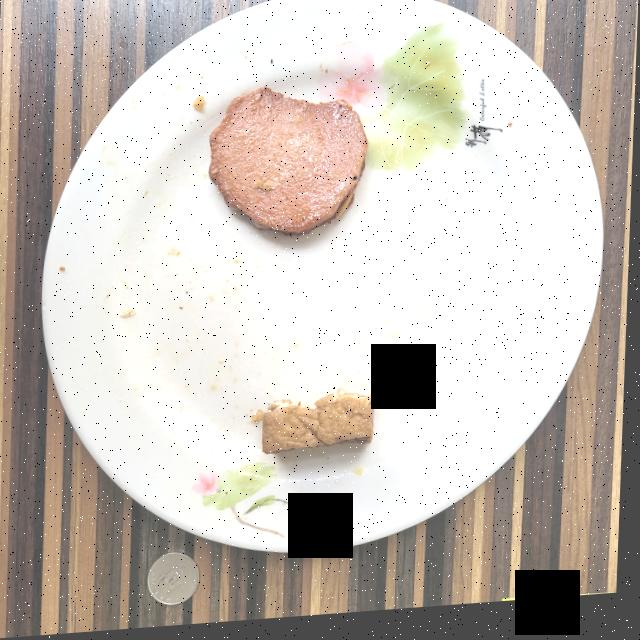Spam: (209, 91, 368, 241)
coin: (151, 555, 203, 608)
egg tofu: (258, 394, 379, 458)
